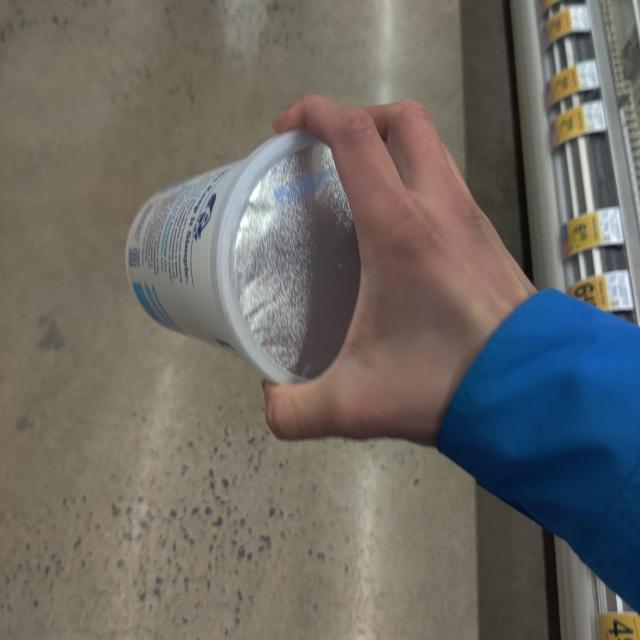Yogurt: (126, 126, 366, 384)
